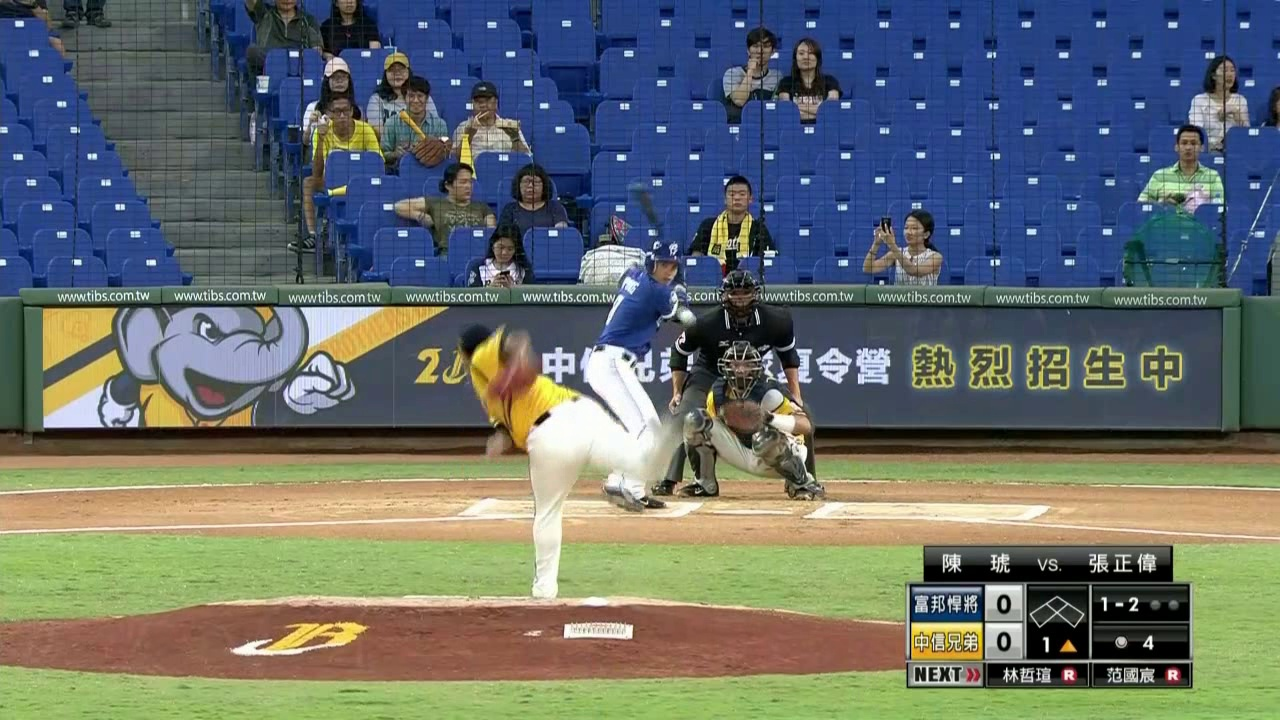ball: (683, 311, 693, 321)
base: (1024, 588, 1087, 633)
bat: (632, 187, 669, 249)
out: (1147, 591, 1185, 620)
score1: (987, 588, 1020, 623)
score2: (990, 628, 1020, 656)
session: (1025, 634, 1087, 657)
strikeball: (1094, 587, 1146, 621)
total: (1107, 624, 1159, 654)
